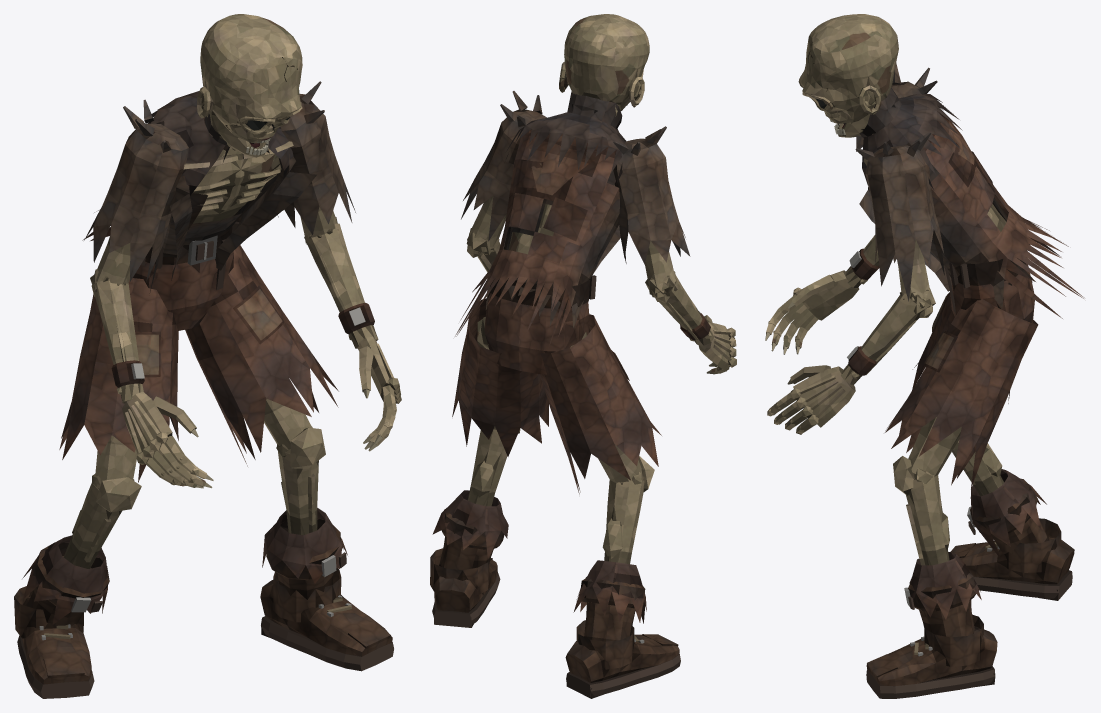
Rendered from zombie_walker_a.glb.
3 views of the same model, side by side, from view 1: azimuth 30°, elevation 25°; view 2: azimuth 150°, elevation 25°; view 3: azimuth 270°, elevation 25° (orthographic). The views are drawn at different scales.
Parts seen in each view (by area): view 1: zombie_walker_a_thigh_l, zombie_walker_a_chest, zombie_walker_a_thigh_r, zombie_walker_a_head, zombie_walker_a_upper_r, zombie_walker_a_shin_r, zombie_walker_a_shin_l, zombie_walker_a_foot_l, zombie_walker_a_foot_r, zombie_walker_a_upper_l, zombie_walker_a_pelvis, zombie_walker_a_hand_r (+4 smaller); view 2: zombie_walker_a_chest, zombie_walker_a_thigh_r, zombie_walker_a_thigh_l, zombie_walker_a_shin_r, zombie_walker_a_upper_r, zombie_walker_a_head, zombie_walker_a_pelvis, zombie_walker_a_shin_l, zombie_walker_a_foot_r, zombie_walker_a_upper_l, zombie_walker_a_foot_l, zombie_walker_a_fore_r (+2 smaller); view 3: zombie_walker_a_chest, zombie_walker_a_thigh_l, zombie_walker_a_upper_l, zombie_walker_a_head, zombie_walker_a_shin_l, zombie_walker_a_foot_l, zombie_walker_a_foot_r, zombie_walker_a_shin_r, zombie_walker_a_hand_l, zombie_walker_a_hand_r, zombie_walker_a_pelvis, zombie_walker_a_fore_l (+3 smaller).
Boxes of the visible parts, x1,y1,x2,y2 form: zombie_walker_a_thigh_l: [185, 245, 338, 466]; zombie_walker_a_chest: [82, 91, 316, 280]; zombie_walker_a_thigh_r: [59, 278, 178, 489]; zombie_walker_a_head: [197, 14, 302, 143]; zombie_walker_a_upper_r: [84, 99, 188, 293]; zombie_walker_a_shin_r: [22, 477, 141, 625]; zombie_walker_a_shin_l: [262, 427, 347, 599]; zombie_walker_a_foot_l: [260, 568, 393, 671]; zombie_walker_a_foot_r: [14, 586, 94, 698]; zombie_walker_a_upper_l: [273, 81, 355, 243]; zombie_walker_a_pelvis: [133, 221, 239, 330]; zombie_walker_a_hand_r: [122, 391, 213, 488]; zombie_walker_a_chest: [455, 91, 626, 346]; zombie_walker_a_thigh_r: [540, 314, 661, 494]; zombie_walker_a_thigh_l: [452, 298, 548, 456]; zombie_walker_a_shin_r: [573, 456, 654, 641]; zombie_walker_a_upper_r: [613, 126, 690, 295]; zombie_walker_a_head: [559, 14, 649, 110]; zombie_walker_a_pelvis: [484, 275, 596, 374]; zombie_walker_a_shin_l: [432, 429, 520, 569]; zombie_walker_a_foot_r: [565, 620, 680, 698]; zombie_walker_a_upper_l: [461, 91, 546, 254]; zombie_walker_a_foot_l: [430, 548, 500, 627]; zombie_walker_a_fore_r: [645, 275, 714, 345]; zombie_walker_a_chest: [856, 87, 1084, 318]; zombie_walker_a_thigh_l: [885, 299, 1038, 488]; zombie_walker_a_upper_l: [855, 132, 944, 307]; zombie_walker_a_head: [798, 14, 898, 124]; zombie_walker_a_shin_l: [893, 456, 981, 637]; zombie_walker_a_foot_l: [866, 614, 997, 698]; zombie_walker_a_foot_r: [950, 518, 1074, 600]; zombie_walker_a_shin_r: [952, 440, 1049, 558]; zombie_walker_a_hand_l: [767, 365, 855, 434]; zombie_walker_a_hand_r: [765, 270, 859, 354]; zombie_walker_a_pelvis: [944, 258, 1034, 322]; zombie_walker_a_fore_l: [841, 293, 932, 384].
Bounding box in the file's own units: 0.7893 × 1.66 × 0.7934.
5 materials, 2 textured.
